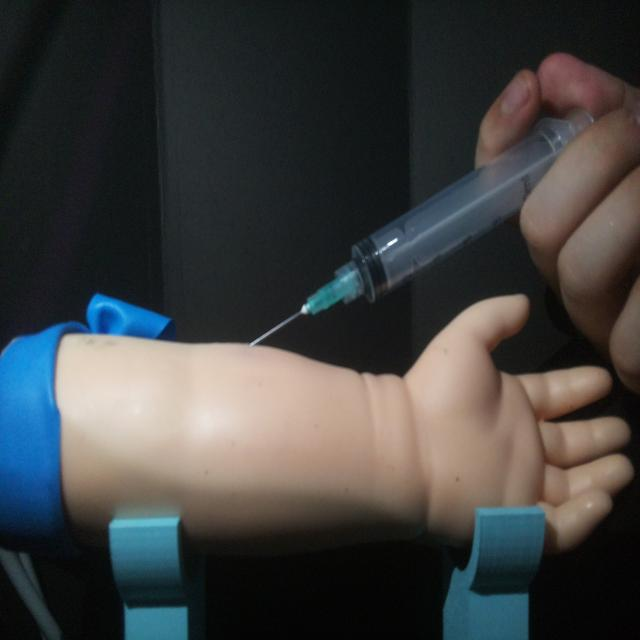25deg: (243, 101, 598, 351)
